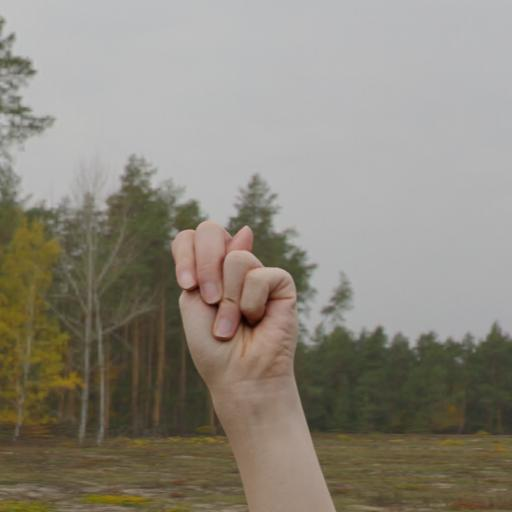N: (165, 164, 320, 408)
